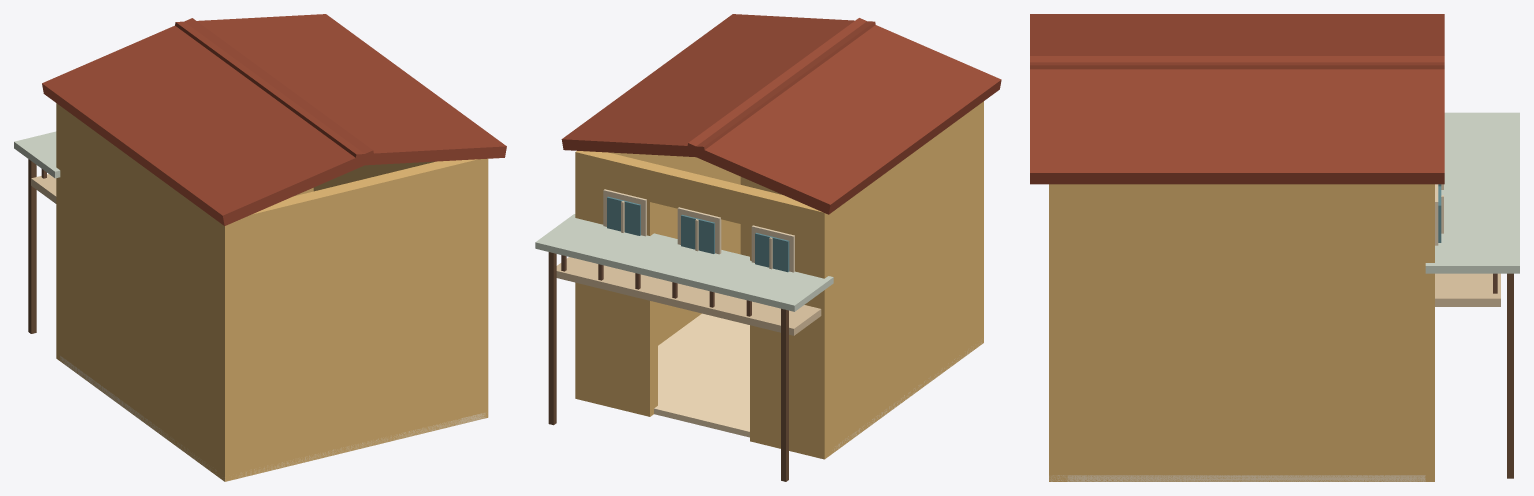
The model's file is townhouse.glb.
3 renders of one model, left to right at view 1: azimuth 30°, elevation 25°; view 2: azimuth 150°, elevation 25°; view 3: azimuth 270°, elevation 25°, orthographic. The views are drawn at different scales.
Visible parts, largest first — view 1: _MeshInstance3D_458, _MeshInstance3D_461, _MeshInstance3D_474, _MeshInstance3D_475, _MeshInstance3D_464, _MeshInstance3D_467, _MeshInstance3D_476, _MeshInstance3D_478, _MeshInstance3D_477; view 2: _MeshInstance3D_461, _MeshInstance3D_474, _MeshInstance3D_475, _MeshInstance3D_470, _MeshInstance3D_467, _MeshInstance3D_477, _MeshInstance3D_476, _MeshInstance3D_489, _MeshInstance3D_473, _MeshInstance3D_464, _MeshInstance3D_458, _MeshInstance3D_479 (+7 smaller); view 3: _MeshInstance3D_464, _MeshInstance3D_475, _MeshInstance3D_474, _MeshInstance3D_477, _MeshInstance3D_458, _MeshInstance3D_470, _MeshInstance3D_476, _MeshInstance3D_489, _MeshInstance3D_479.
Boxes of the visible parts, x1=… form: _MeshInstance3D_458: x1=216, y1=158, x2=488, y2=481; _MeshInstance3D_461: x1=60, y1=106, x2=238, y2=481; _MeshInstance3D_474: x1=42, y1=18, x2=374, y2=225; _MeshInstance3D_475: x1=175, y1=14, x2=506, y2=165; _MeshInstance3D_464: x1=313, y1=159, x2=488, y2=418; _MeshInstance3D_467: x1=56, y1=103, x2=64, y2=362; _MeshInstance3D_476: x1=60, y1=356, x2=485, y2=481; _MeshInstance3D_478: x1=28, y1=159, x2=36, y2=333; _MeshInstance3D_477: x1=14, y1=131, x2=60, y2=178; _MeshInstance3D_461: x1=828, y1=104, x2=983, y2=456; _MeshInstance3D_474: x1=686, y1=18, x2=1001, y2=214; _MeshInstance3D_475: x1=561, y1=14, x2=875, y2=157; _MeshInstance3D_470: x1=575, y1=151, x2=657, y2=416; _MeshInstance3D_467: x1=750, y1=189, x2=832, y2=459; _MeshInstance3D_477: x1=535, y1=214, x2=833, y2=311; _MeshInstance3D_476: x1=654, y1=313, x2=981, y2=452; _MeshInstance3D_489: x1=556, y1=257, x2=821, y2=335; _MeshInstance3D_473: x1=650, y1=164, x2=756, y2=226; _MeshInstance3D_464: x1=591, y1=151, x2=740, y2=345; _MeshInstance3D_458: x1=740, y1=101, x2=983, y2=345; _MeshInstance3D_479: x1=548, y1=252, x2=556, y2=425; _MeshInstance3D_464: x1=1049, y1=184, x2=1425, y2=481; _MeshInstance3D_475: x1=1030, y1=56, x2=1444, y2=184; _MeshInstance3D_474: x1=1030, y1=14, x2=1444, y2=69; _MeshInstance3D_477: x1=1425, y1=112, x2=1519, y2=273; _MeshInstance3D_458: x1=1049, y1=184, x2=1067, y2=481; _MeshInstance3D_470: x1=1416, y1=184, x2=1434, y2=481; _MeshInstance3D_476: x1=1049, y1=475, x2=1425, y2=481; _MeshInstance3D_489: x1=1435, y1=273, x2=1500, y2=306; _MeshInstance3D_479: x1=1507, y1=273, x2=1513, y2=478.
Size of the model in its own units: 7.98 by 8.15 by 10.4.
